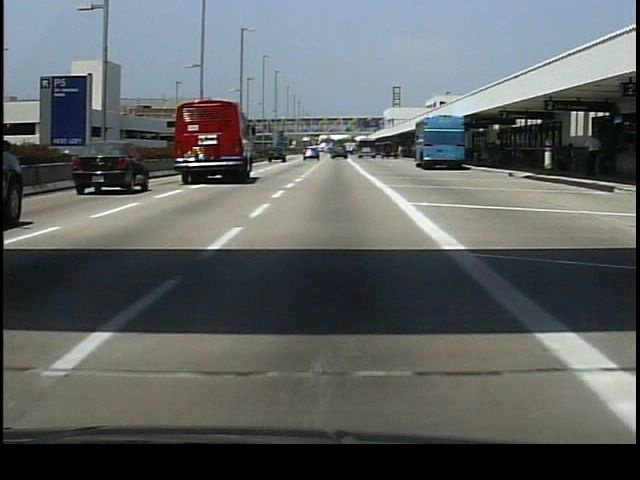person: (583, 132, 602, 178)
